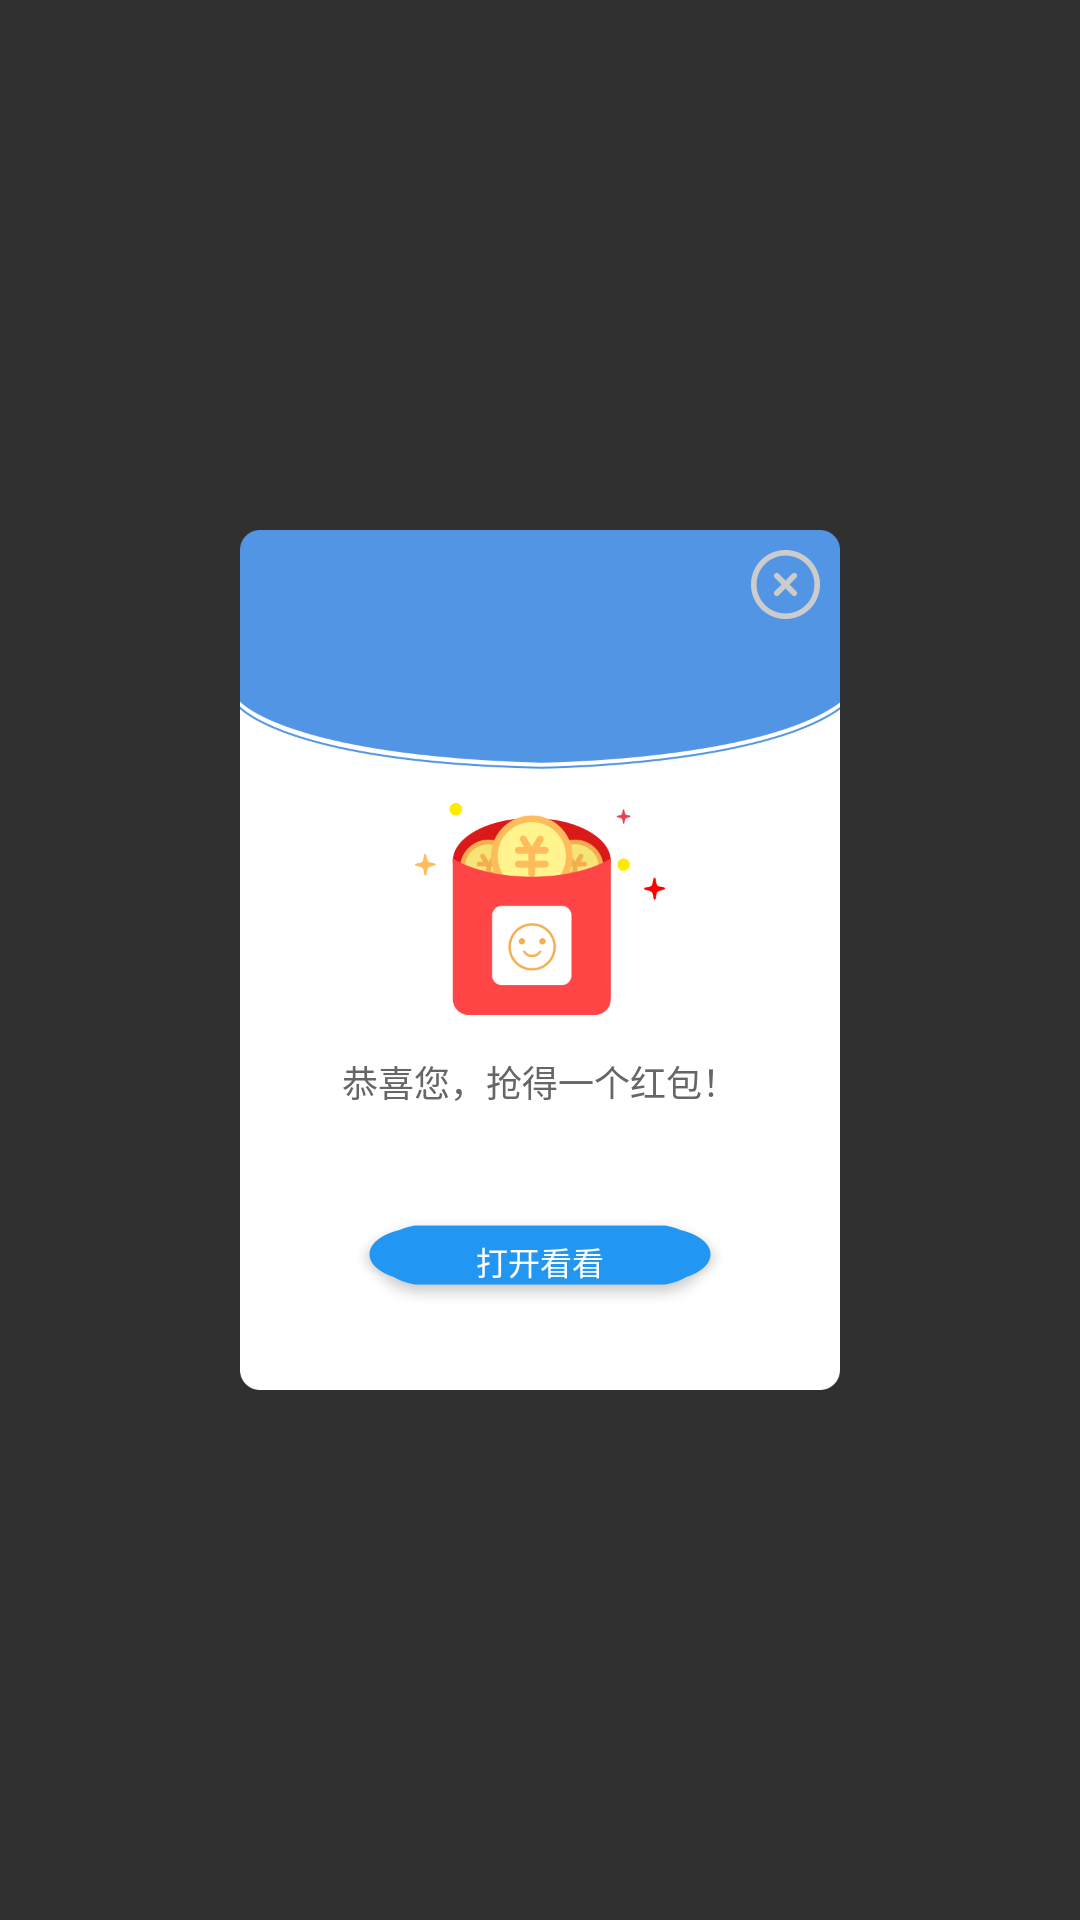

Where icons sit on this 1080 x 1920 app screen, as (x1, y1, x2, y2):
guanbi: (751, 550, 820, 619)
